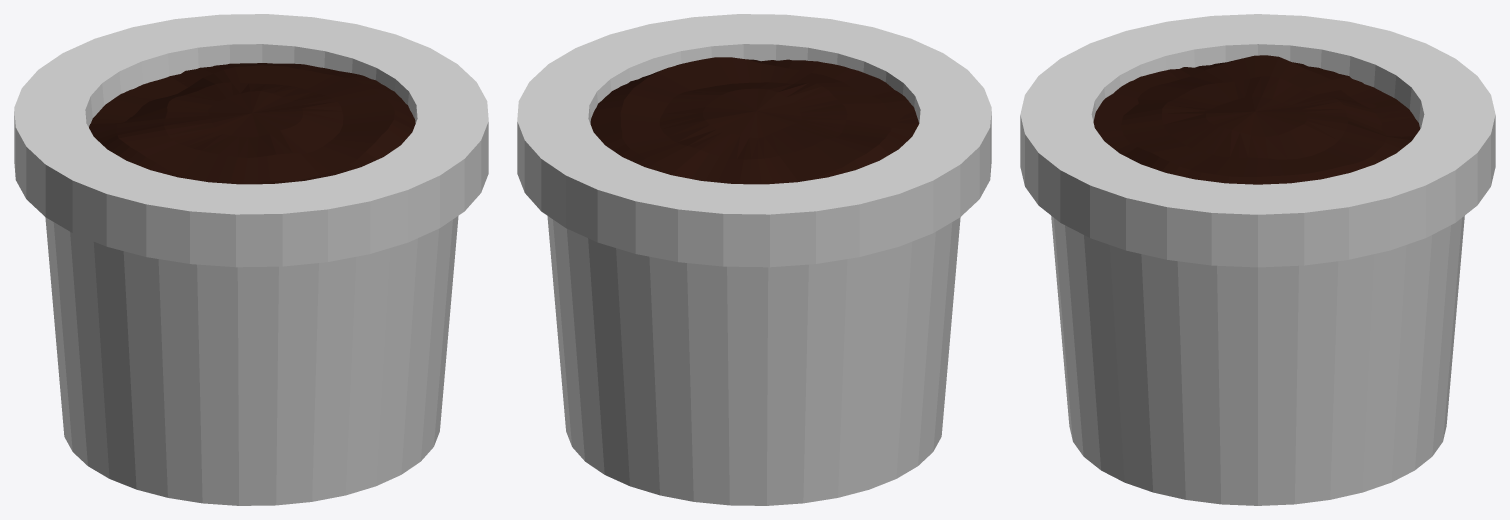
File: Vase.obj
3 views of the same model, side by side, from view 1: azimuth 30°, elevation 25°; view 2: azimuth 150°, elevation 25°; view 3: azimuth 270°, elevation 25° (orthographic).
Parts seen in each view (by area): view 1: 円柱.001; view 2: 円柱.001; view 3: 円柱.001.
Part boxes in pixels (x1,y1,x2,y2): 円柱.001: [14, 14, 488, 505]; 円柱.001: [517, 14, 991, 505]; 円柱.001: [1020, 14, 1495, 505].
Bounding box in the file's own units: 2.52 × 1.84 × 2.52.
